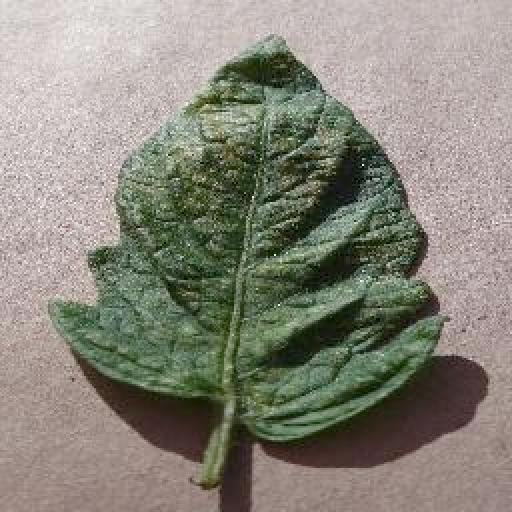disease_tomato: (46, 36, 442, 440)
